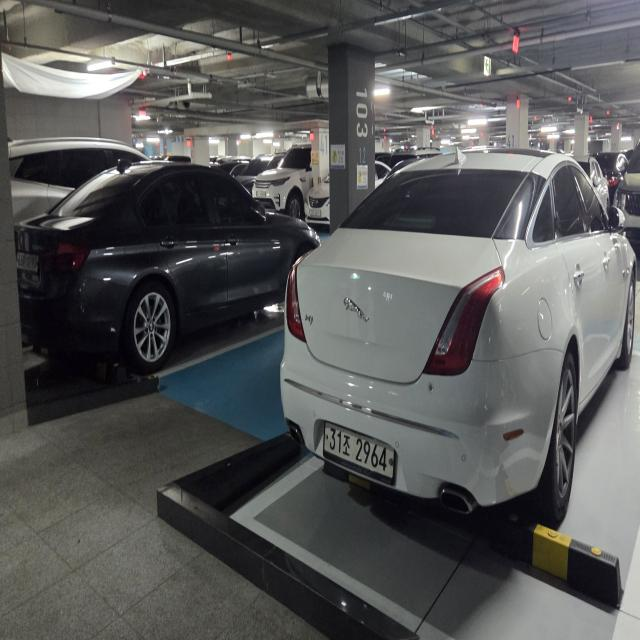car: (291, 138, 640, 566), (18, 166, 330, 358), (301, 147, 400, 236), (258, 126, 317, 233)
